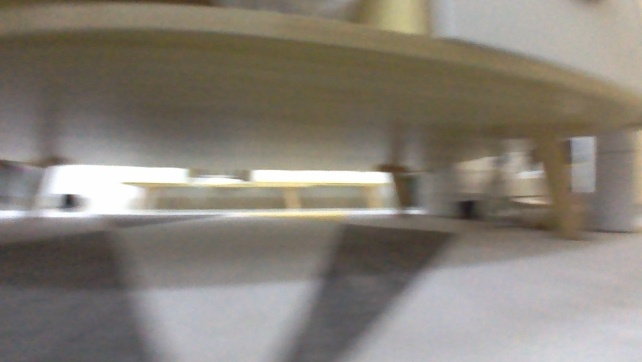blanket: (0, 208, 641, 361)
